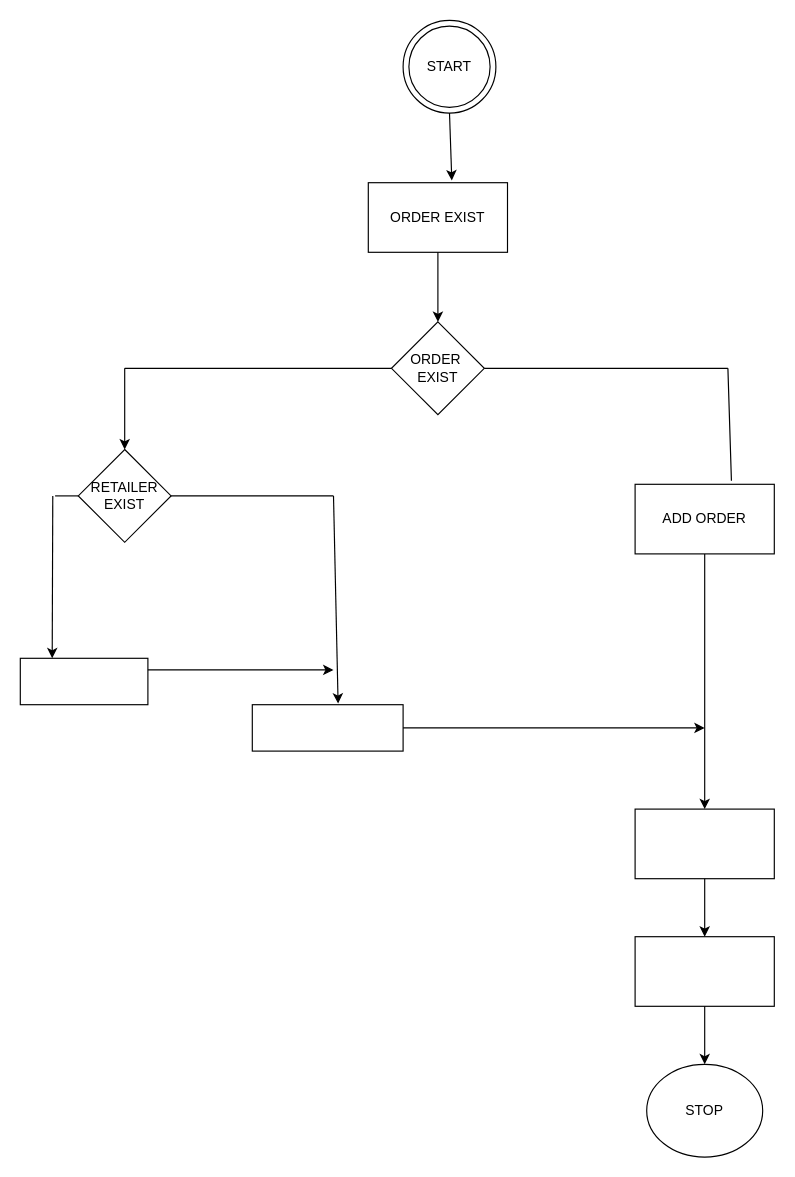
The diagram is 795 pixels wide and 1177 high, and some of its shapes have lost their labels. Here are the shapes that lost their labels. From the top down, the centre of each, then its label:
(x=83, y=681): REGISTER RETIALER
(x=327, y=727): REGISTER PRODUCT
(x=704, y=843): PRODUCT ID PRODUCT TYPE PRODUCT PRICE
(x=704, y=971): PLACE ORDER
